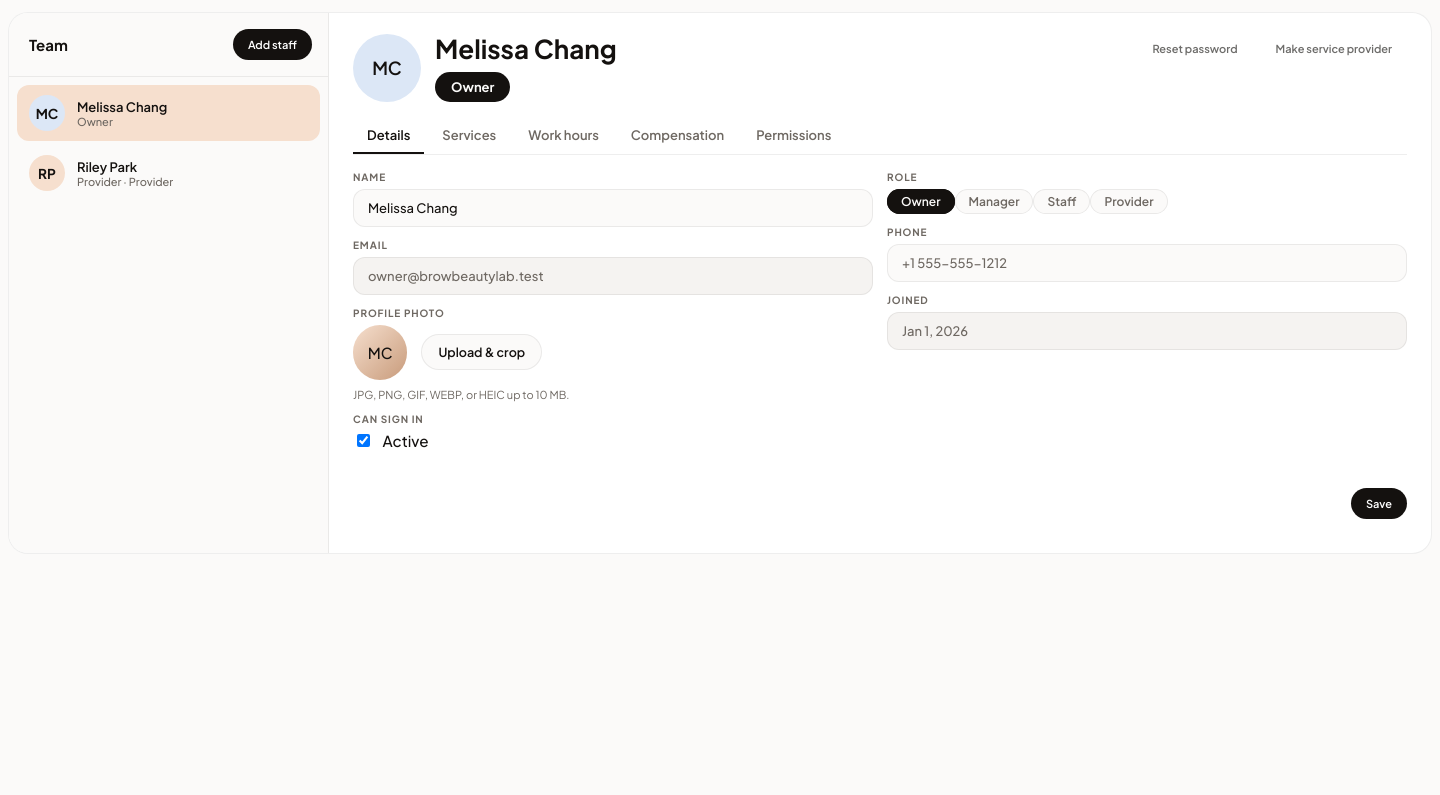
Test: StaffPage › loads provider schedule entries on the Work hours tab
The width and height of the screenshot is (1440, 795).
Click the button "RP Riley Park Provider · Provider". click: (168, 173)
box: [17, 145, 320, 201]
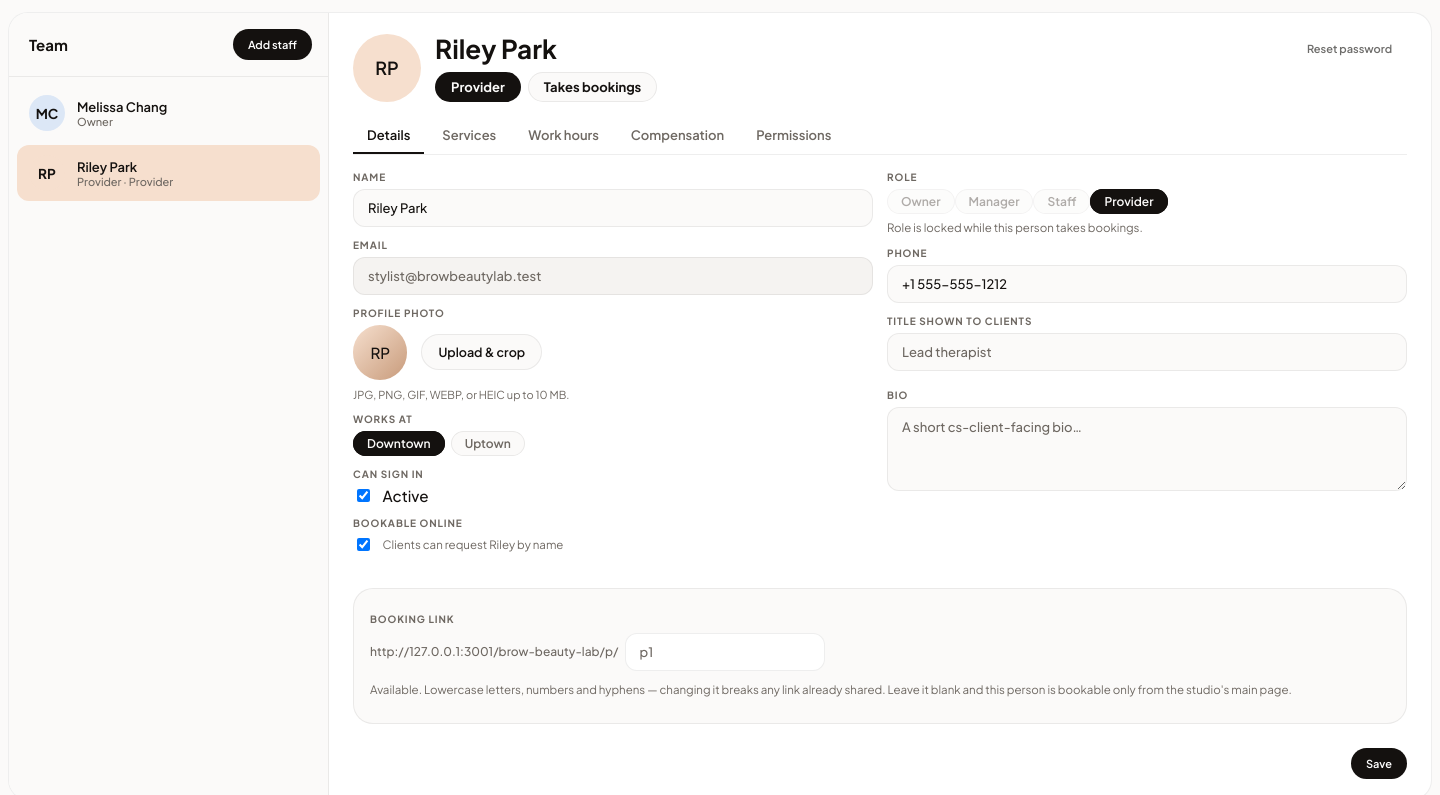
Click the tab "Work hours". click: (564, 136)
box: [514, 118, 613, 154]
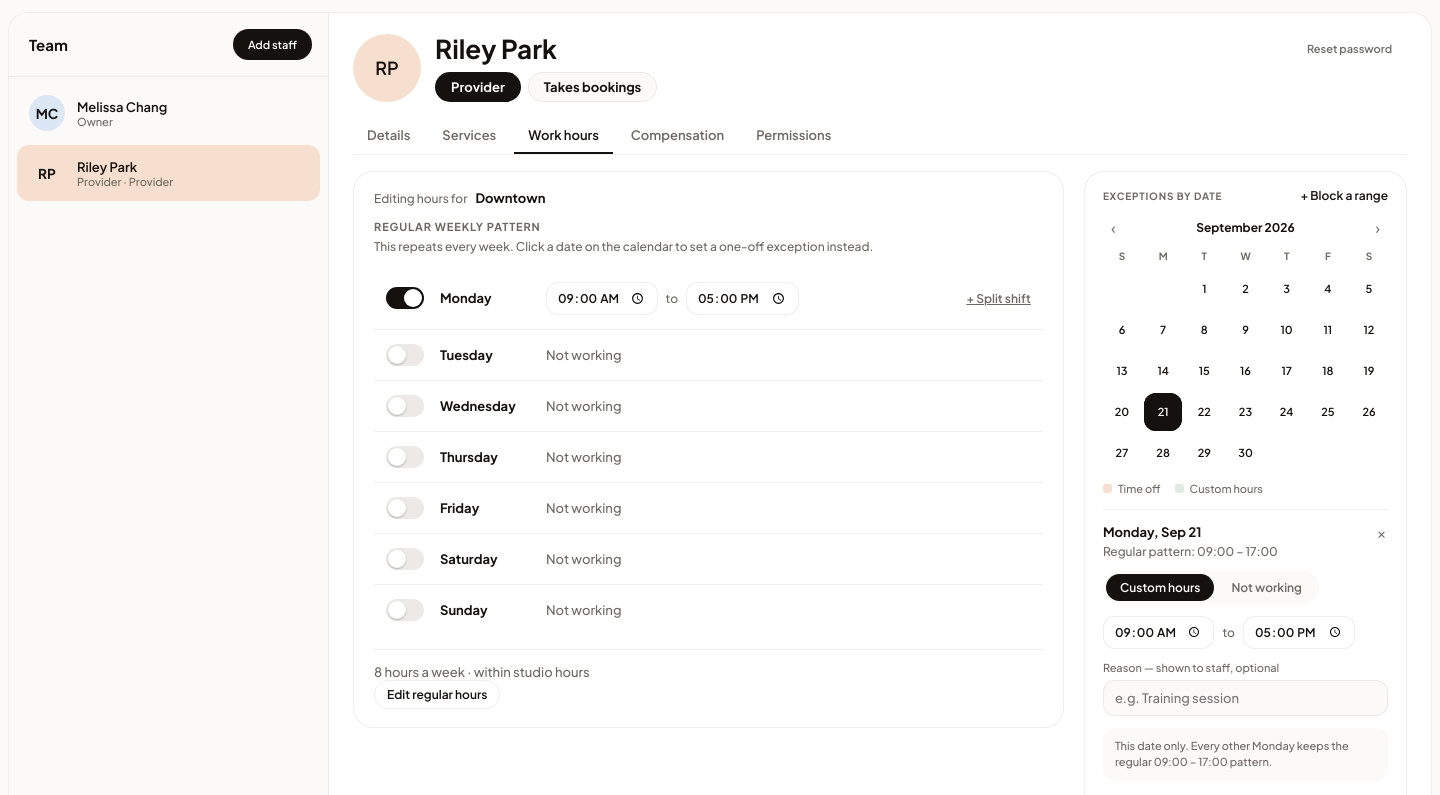
expect the time field named "Monday start time" holds "09:00": met, box [546, 282, 658, 315]
